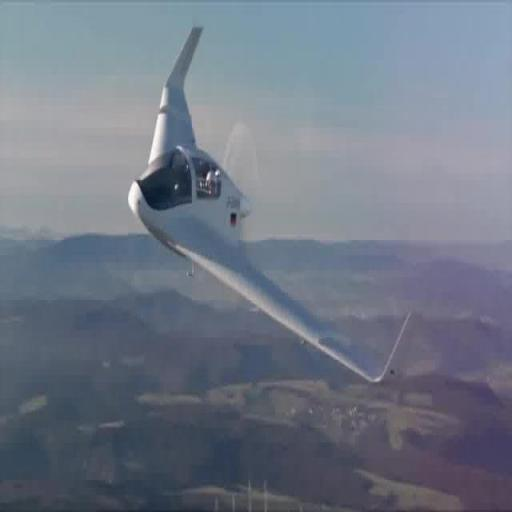uav: (124, 18, 426, 408)
